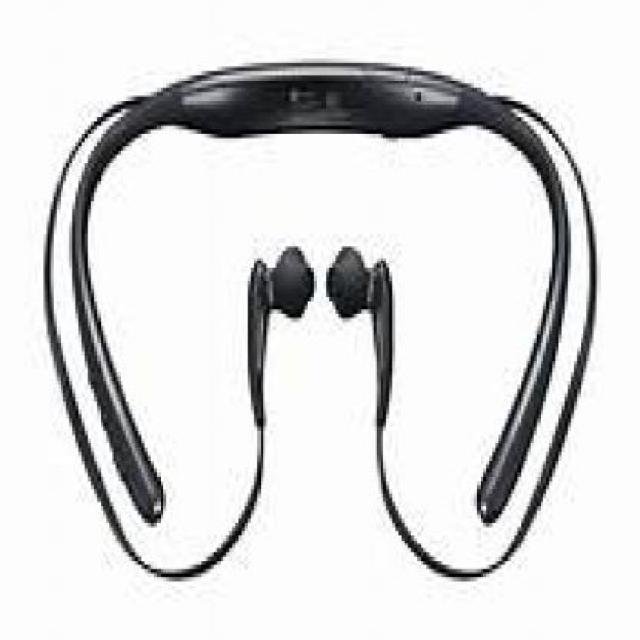earphone: (49, 15, 590, 624)
